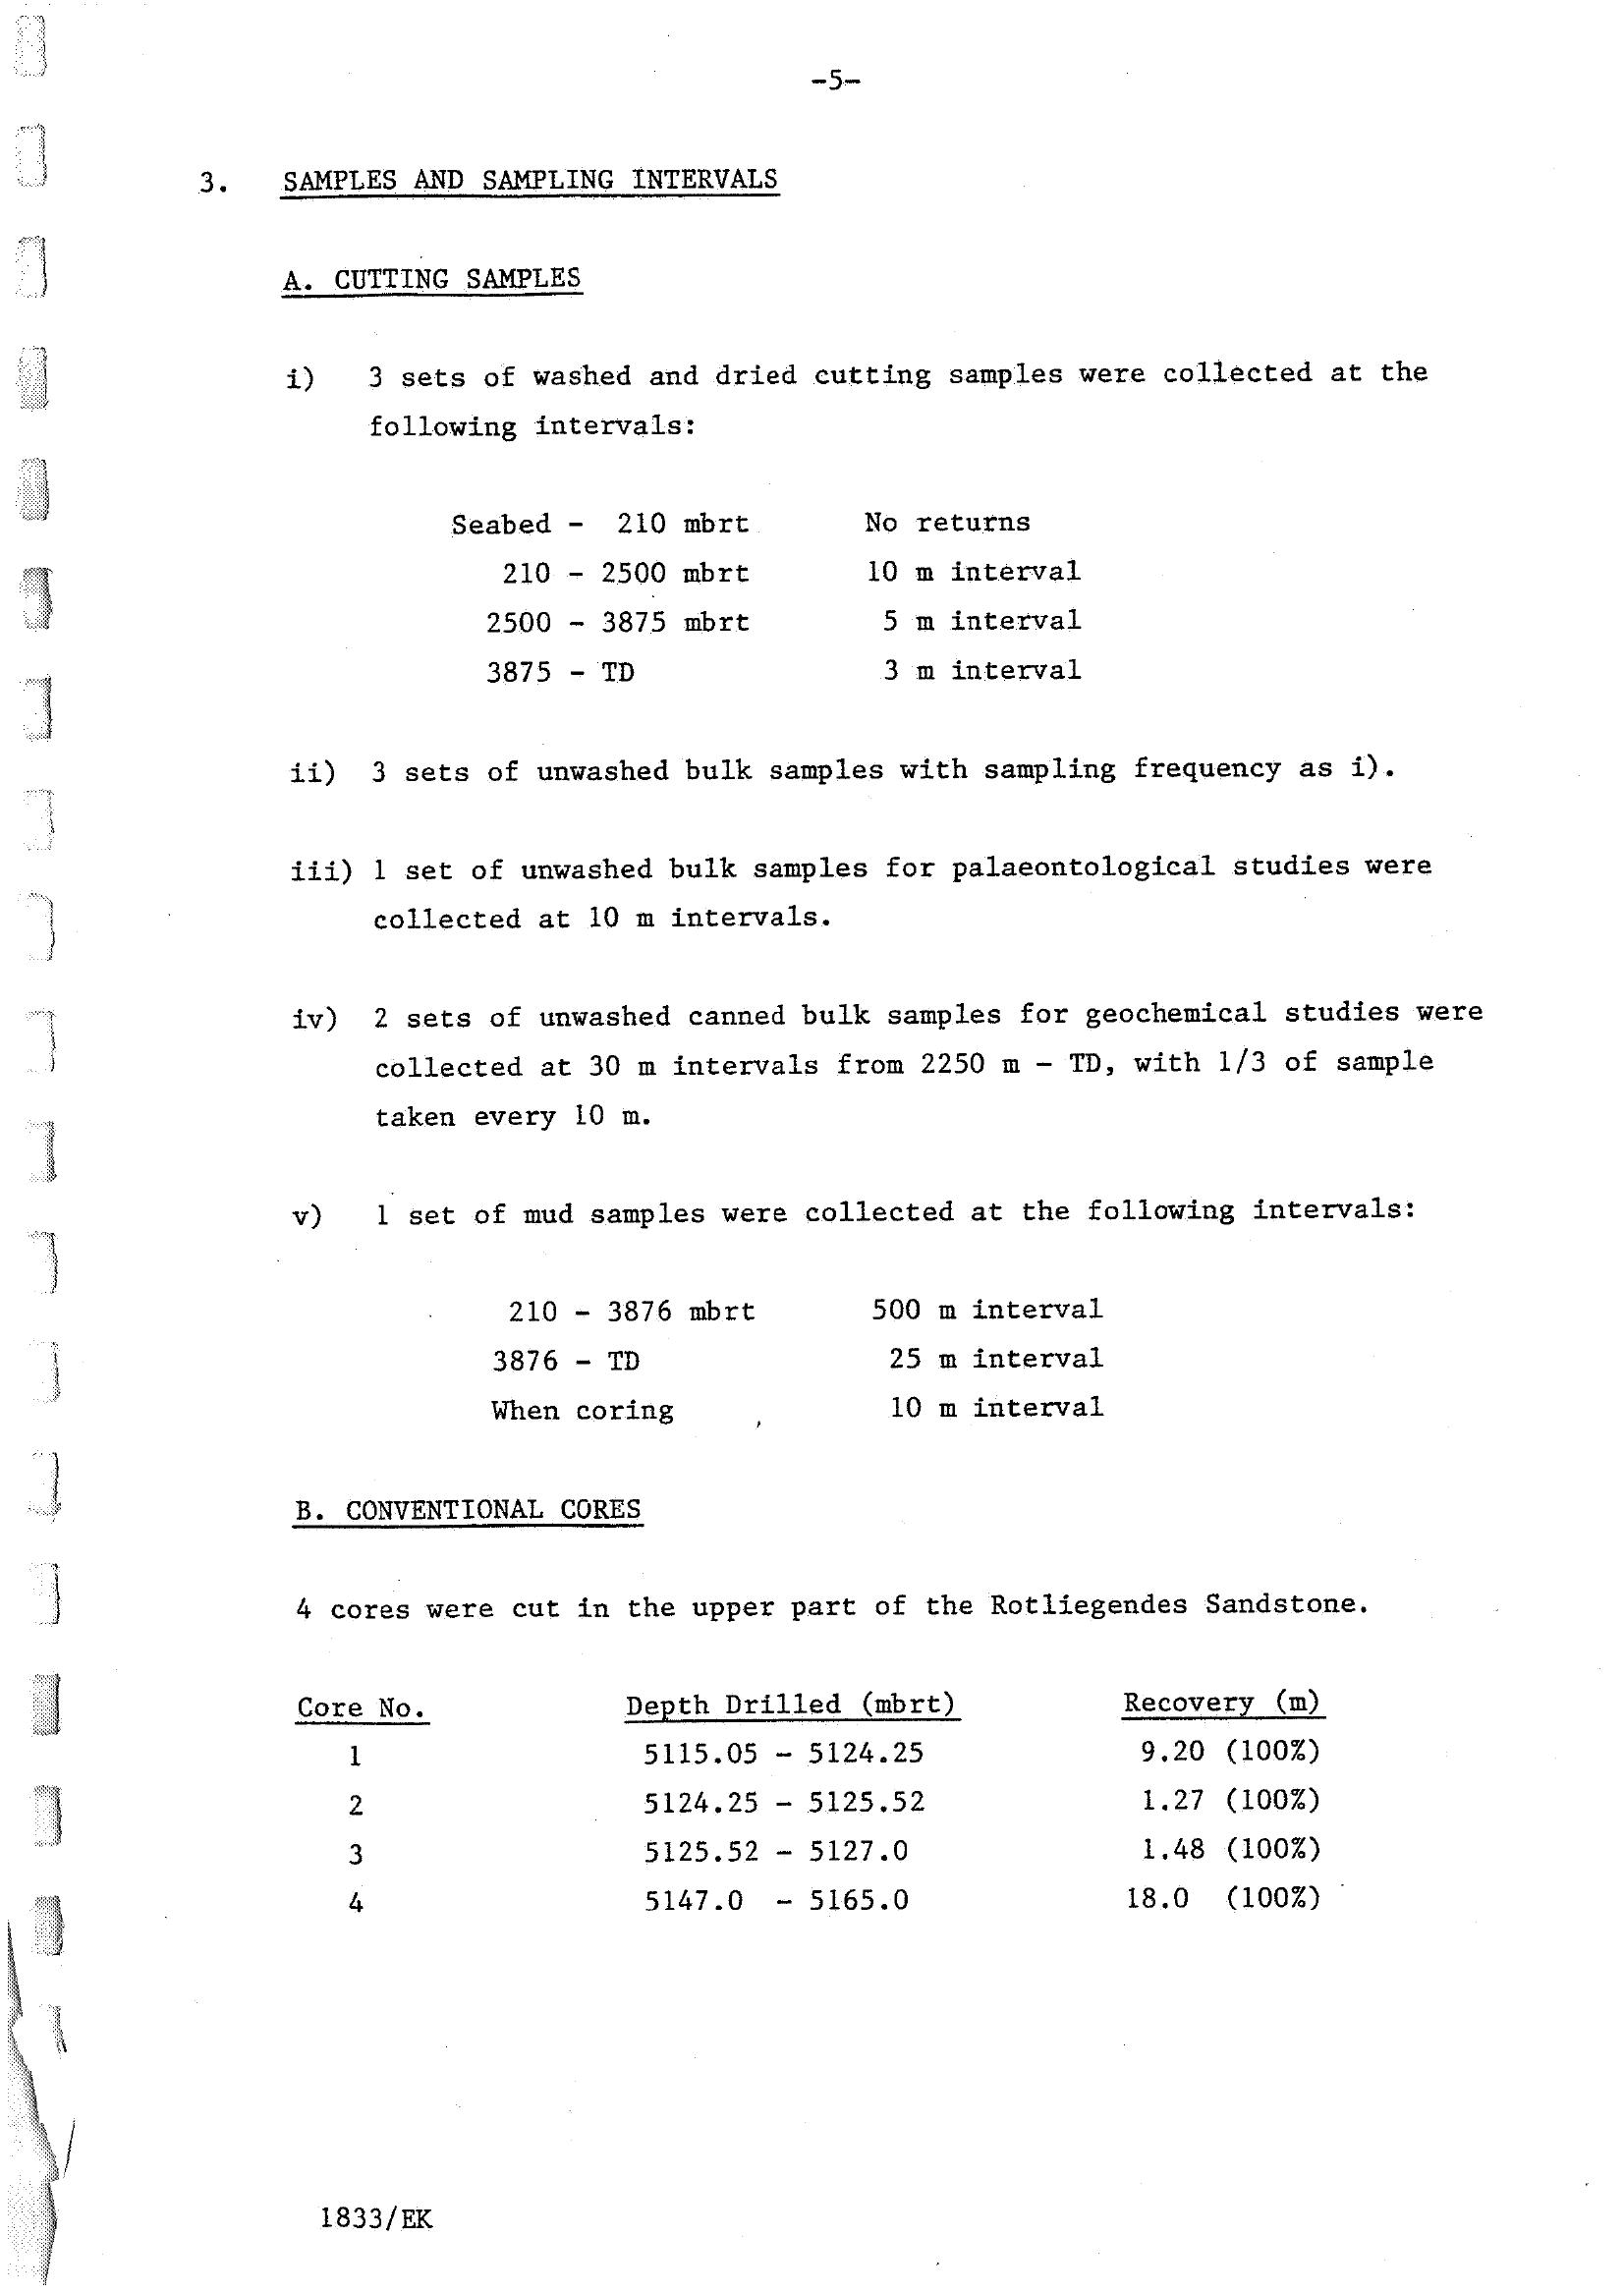table: (230, 1685, 1371, 1970)
text: (134, 142, 1536, 1465), (230, 1483, 1410, 1648)
